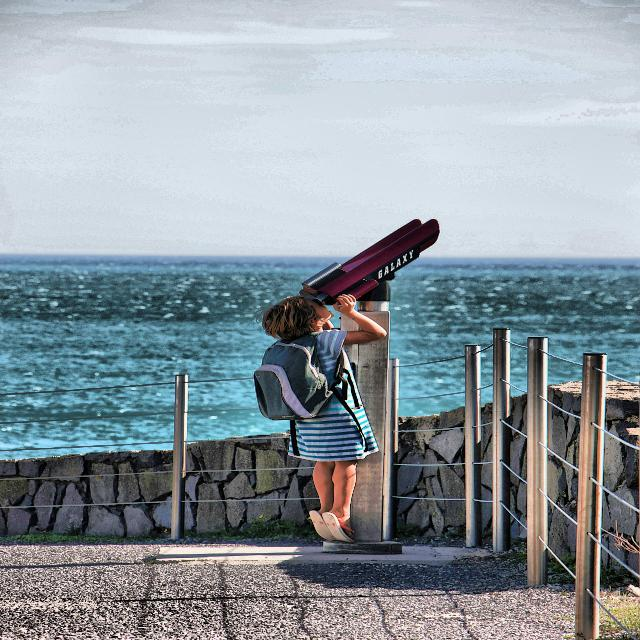Human: (219, 296, 416, 554)
